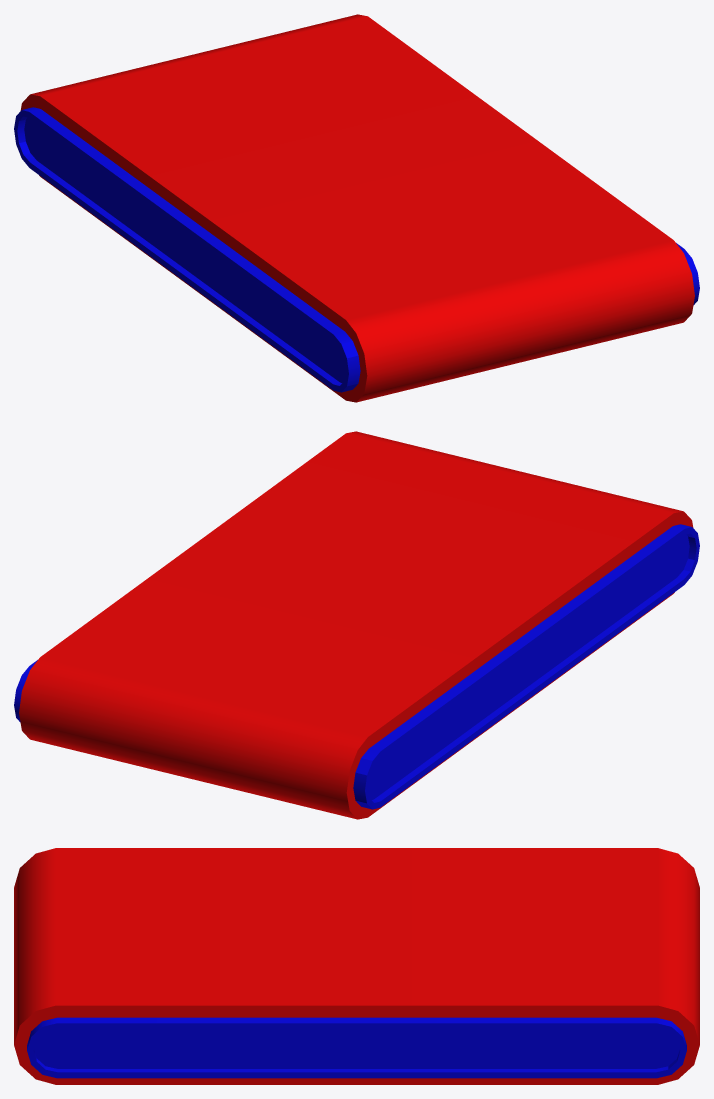
The model's file is ConveyorBelt.fbx.
3 renders of one model, top to bottom at view 1: azimuth 30°, elevation 25°; view 2: azimuth 150°, elevation 25°; view 3: azimuth 270°, elevation 25°, orthographic.
Visible parts, largest first — view 1: Belt, ConveyorSupport; view 2: Belt, ConveyorSupport; view 3: Belt, ConveyorSupport.
Part boxes in pixels (x1,y1,x2,y2): Belt: [20, 14, 694, 402]; ConveyorSupport: [14, 107, 699, 392]; Belt: [19, 431, 693, 819]; ConveyorSupport: [14, 524, 699, 809]; Belt: [14, 848, 699, 1084]; ConveyorSupport: [27, 1017, 686, 1078].
Bounding box in the file's own units: 1.62 × 0.355 × 2.78.
